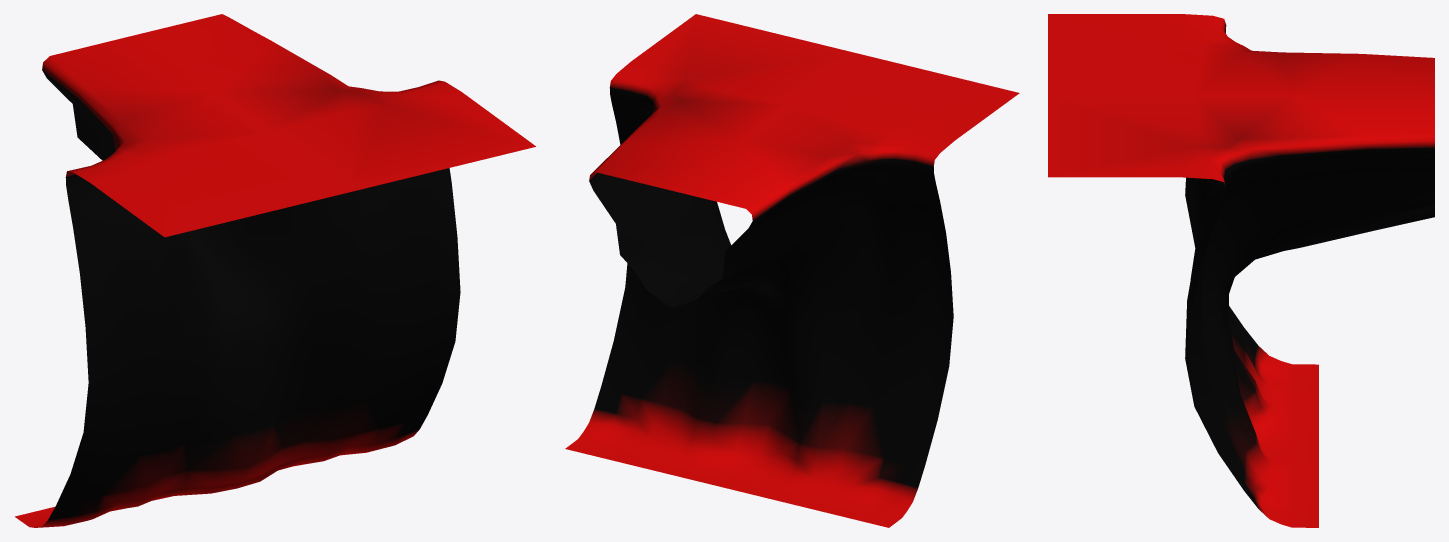
File: CrossingCliff02C 2M Background.fbx
3 renders of one model, left to right at view 1: azimuth 30°, elevation 25°; view 2: azimuth 150°, elevation 25°; view 3: azimuth 270°, elevation 25°, orthographic. The views are drawn at different scales.
Parts seen in each view (by area): view 1: CrossingCliff02C 2M Background; view 2: CrossingCliff02C 2M Background; view 3: CrossingCliff02C 2M Background.
Boxes of the visible parts, x1,y1,x2,y2 form: CrossingCliff02C 2M Background: (15,14,535,527); CrossingCliff02C 2M Background: (565,14,1019,527); CrossingCliff02C 2M Background: (1048,14,1434,527).
Size of the model in its own units: 2 by 2.01 by 2.
